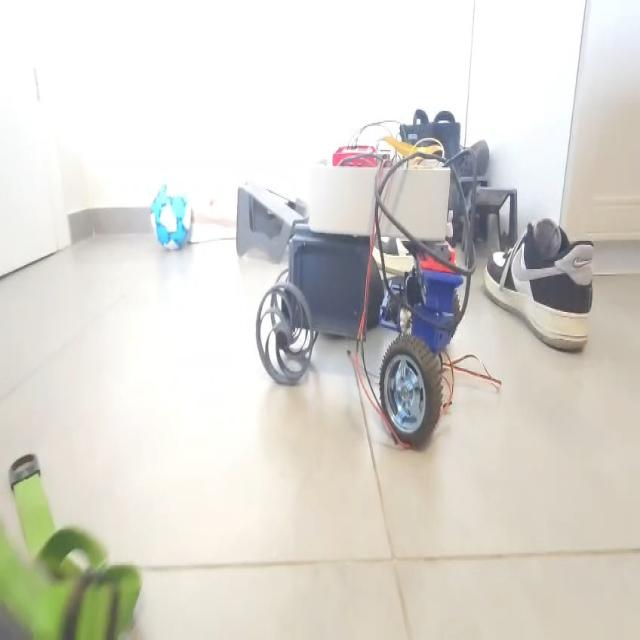Robot: (254, 103, 468, 449)
